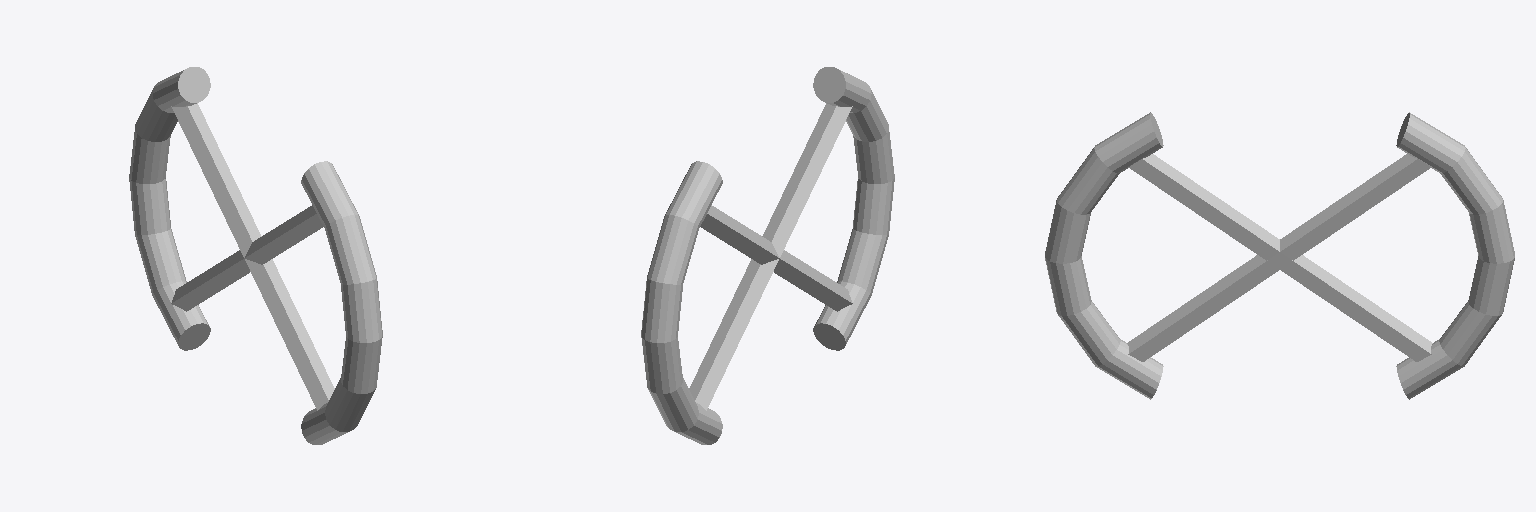
Rendered from SteeringWheel.obj.
The picture shows the model from 3 angles: view 1: azimuth 30°, elevation 25°; view 2: azimuth 150°, elevation 25°; view 3: azimuth 270°, elevation 25°; orthographic projection.
Parts seen in each view (by area): view 1: Handles_Circle, Bars_Cylinder.001; view 2: Handles_Circle, Bars_Cylinder.001; view 3: Handles_Circle, Bars_Cylinder.001.
Boxes of the visible parts, x1=… form: Handles_Circle: x1=129, y1=67, x2=382, y2=444; Bars_Cylinder.001: x1=171, y1=103, x2=334, y2=410; Handles_Circle: x1=641, y1=67, x2=894, y2=444; Bars_Cylinder.001: x1=689, y1=103, x2=852, y2=410; Handles_Circle: x1=1045, y1=112, x2=1514, y2=399; Bars_Cylinder.001: x1=1127, y1=154, x2=1432, y2=361.
Bounding box in the file's own units: 0.2446 × 2.06 × 3.1.